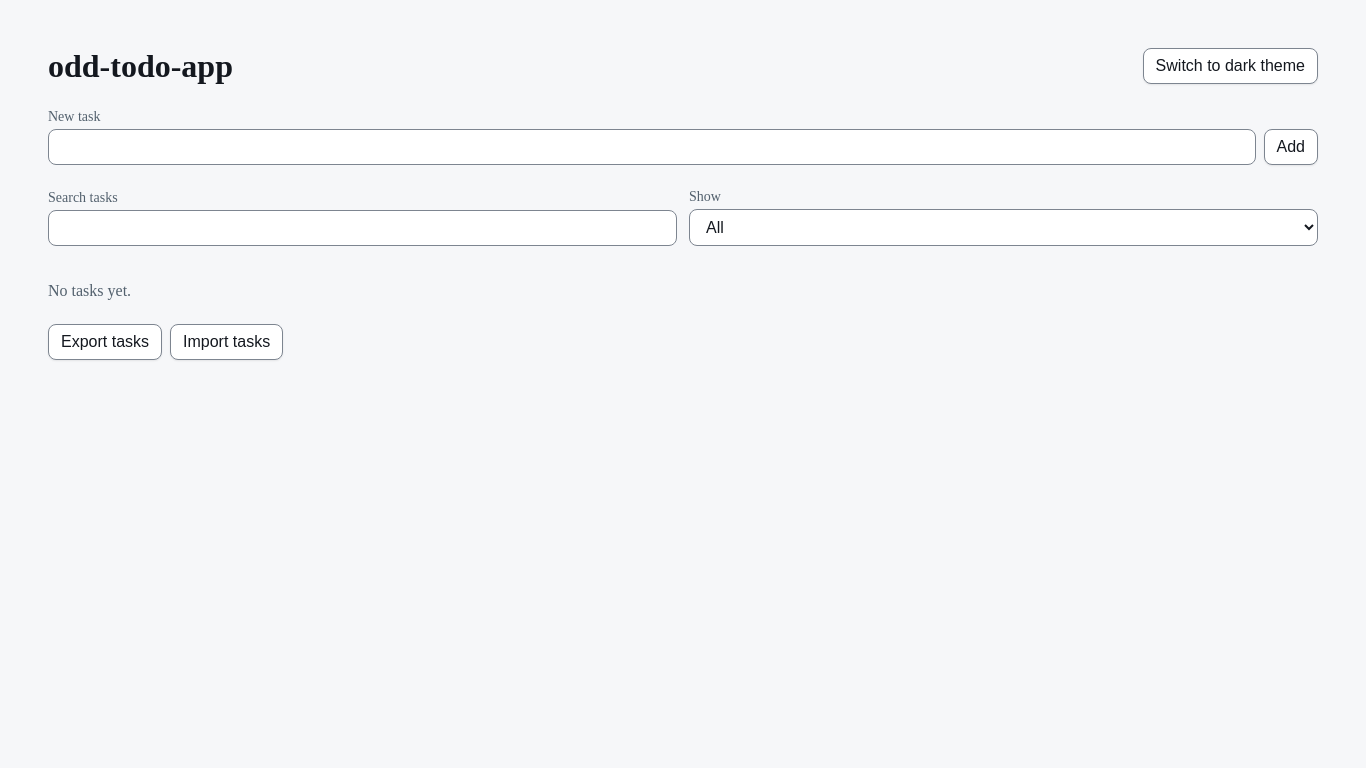
placeholder screen › the toggle overrides the theme and persists across reloads
Later steps or results of the test are not shown.
Click the button "Switch to dark theme" at (1230, 66), box x1=1143 y1=48 x2=1318 y2=84
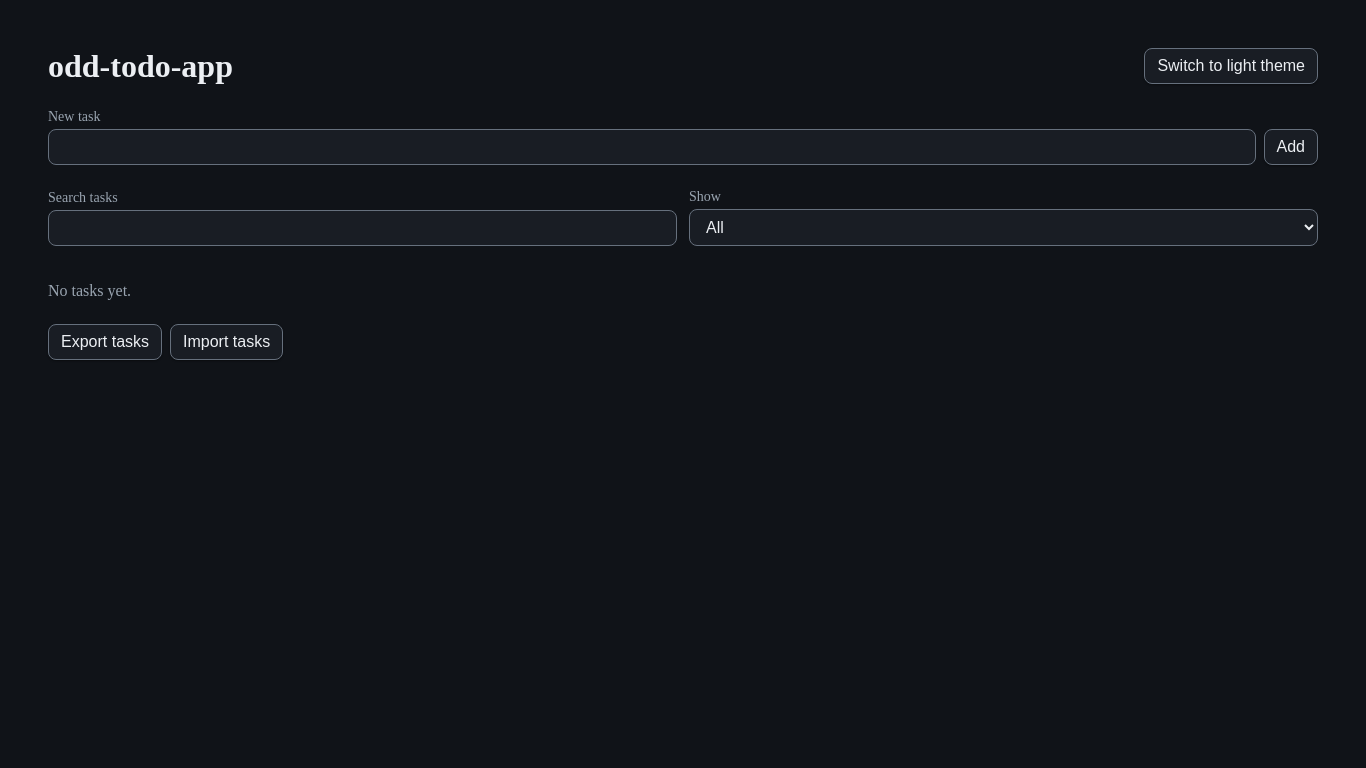
Result: the button "Switch to light theme" is shown at x1=1144 y1=48 x2=1318 y2=84
